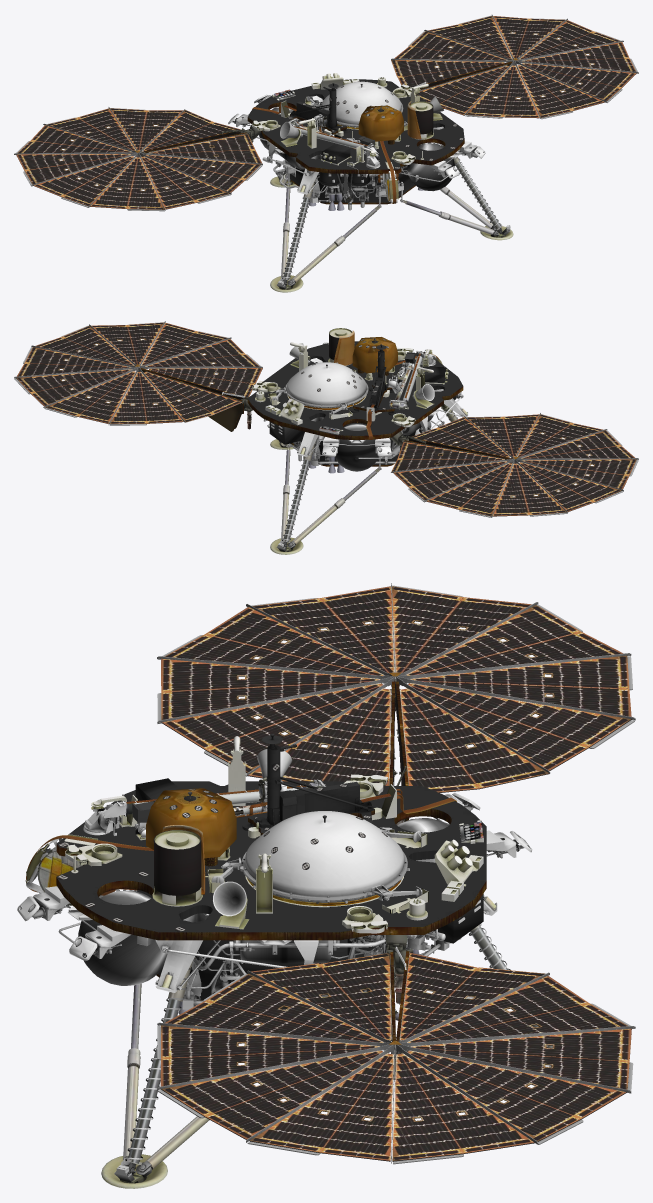
Rendered from insight-lander.glb.
3 views of the same model, one above another, from view 1: azimuth 30°, elevation 25°; view 2: azimuth 150°, elevation 25°; view 3: azimuth 270°, elevation 25° (orthographic). The views are drawn at different scales.
Visible parts, largest first — view 1: deck, leg_l, WTS, leg_r, SEIS, Cube.056, Cube.095, Cube.051, Cube.055, Cube.079, Cube.001, Cube.050 (+38 smaller); view 2: deck, WTS, leg_b, SEIS, Cube.047, Cube.083, Cube.081, Cube.078, Cube.064, Cube.085, Cube.049, Cube.061 (+39 smaller); view 3: deck, WTS, leg_r, Cube.089, Cube.091, Cube.060, Cube.059, Cube.087, HP3_v3d_baked, Cube.057, SEIS, Cube.086 (+43 smaller).
Boxes of the visible parts, bbox=[...] form: deck: bbox=[228, 73, 485, 210]; leg_l: bbox=[270, 177, 380, 292]; WTS: bbox=[311, 81, 403, 128]; leg_r: bbox=[401, 145, 513, 240]; SEIS: bbox=[358, 105, 403, 144]; Cube.056: bbox=[143, 156, 230, 203]; Cube.095: bbox=[465, 65, 513, 118]; Cube.051: bbox=[127, 157, 164, 211]; Cube.055: bbox=[146, 154, 262, 180]; Cube.079: bbox=[391, 60, 504, 77]; Cube.001: bbox=[33, 156, 133, 196]; Cube.050: bbox=[90, 157, 137, 208]; deck: bbox=[244, 340, 468, 473]; WTS: bbox=[275, 362, 368, 409]; leg_b: bbox=[270, 439, 381, 554]; SEIS: bbox=[352, 337, 397, 375]; Cube.047: bbox=[520, 462, 623, 503]; Cube.083: bbox=[44, 371, 134, 417]; Cube.081: bbox=[109, 372, 147, 425]; Cube.078: bbox=[144, 372, 241, 414]; Cube.064: bbox=[516, 463, 567, 516]; Cube.085: bbox=[14, 369, 131, 394]; Cube.049: bbox=[522, 459, 638, 476]; Cube.061: bbox=[426, 463, 510, 509]; deck: bbox=[17, 774, 532, 1014]; WTS: bbox=[221, 811, 409, 903]; leg_r: bbox=[101, 958, 209, 1188]; Cube.089: bbox=[247, 1053, 390, 1155]; Cube.091: bbox=[158, 1050, 382, 1118]; Cube.060: bbox=[408, 683, 634, 748]; Cube.059: bbox=[404, 688, 549, 788]; Cube.087: bbox=[392, 1054, 464, 1164]; HP3_v3d_baked: bbox=[242, 733, 374, 840]; Cube.057: bbox=[161, 683, 382, 750]; SEIS: bbox=[146, 788, 236, 866]; Cube.086: bbox=[400, 1053, 534, 1153].
Bounding box in the file's own units: 6.14 × 1.58 × 2.77.
Materials: 11 (11 with a texture image).
